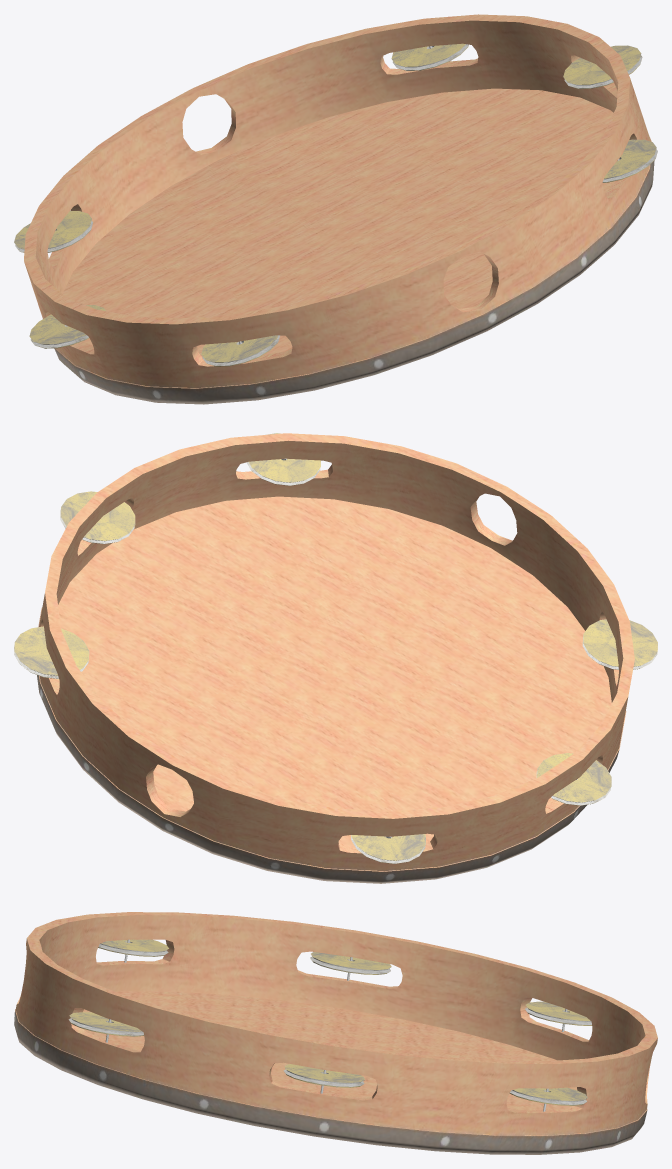
Rendered from Tambourine.glb.
3 views of the same model, one above another, from view 1: azimuth 30°, elevation 25°; view 2: azimuth 150°, elevation 25°; view 3: azimuth 270°, elevation 25° (orthographic). The views are drawn at different scales.
Parts seen in each view (by area): view 1: Tambourine; view 2: Tambourine; view 3: Tambourine.
Boxes of the visible parts, x1,y1,x2,y2 form: Tambourine: (14, 14, 657, 404); Tambourine: (14, 433, 657, 883); Tambourine: (14, 912, 657, 1154).
Bounding box in the file's own units: 0.7926 × 0.3137 × 0.7438.
Materials: 1 (1 with a texture image).
